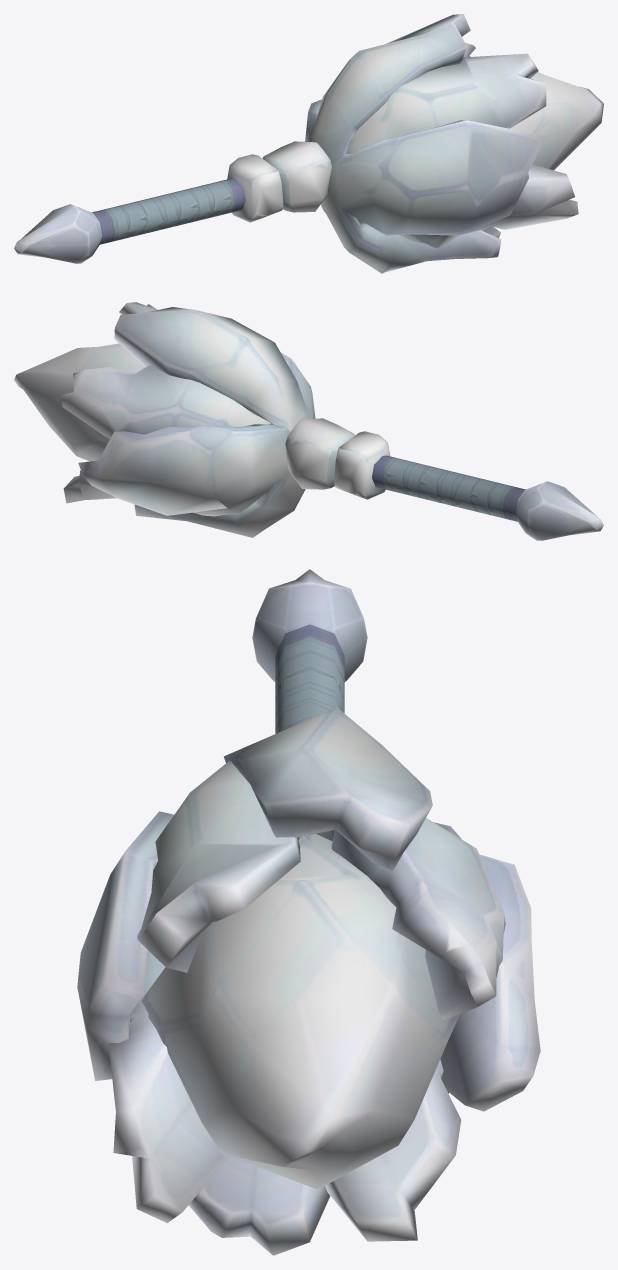
Rendered from item_weawanmgm2501-et06.glb.
3 views of the same model, one above another, from view 1: azimuth 30°, elevation 25°; view 2: azimuth 150°, elevation 25°; view 3: azimuth 270°, elevation 25° (orthographic). The views are drawn at different scales.
Visible parts, largest first — view 1: FlyffMesh; view 2: FlyffMesh; view 3: FlyffMesh.
Boxes of the visible parts, <box> form: FlyffMesh: <box>14,14,603,273</box>; FlyffMesh: <box>14,302,603,540</box>; FlyffMesh: <box>77,569,540,1255</box>.
Size of the model in its own units: 1.16 by 0.4203 by 0.3941.
1 material, 1 textured.
